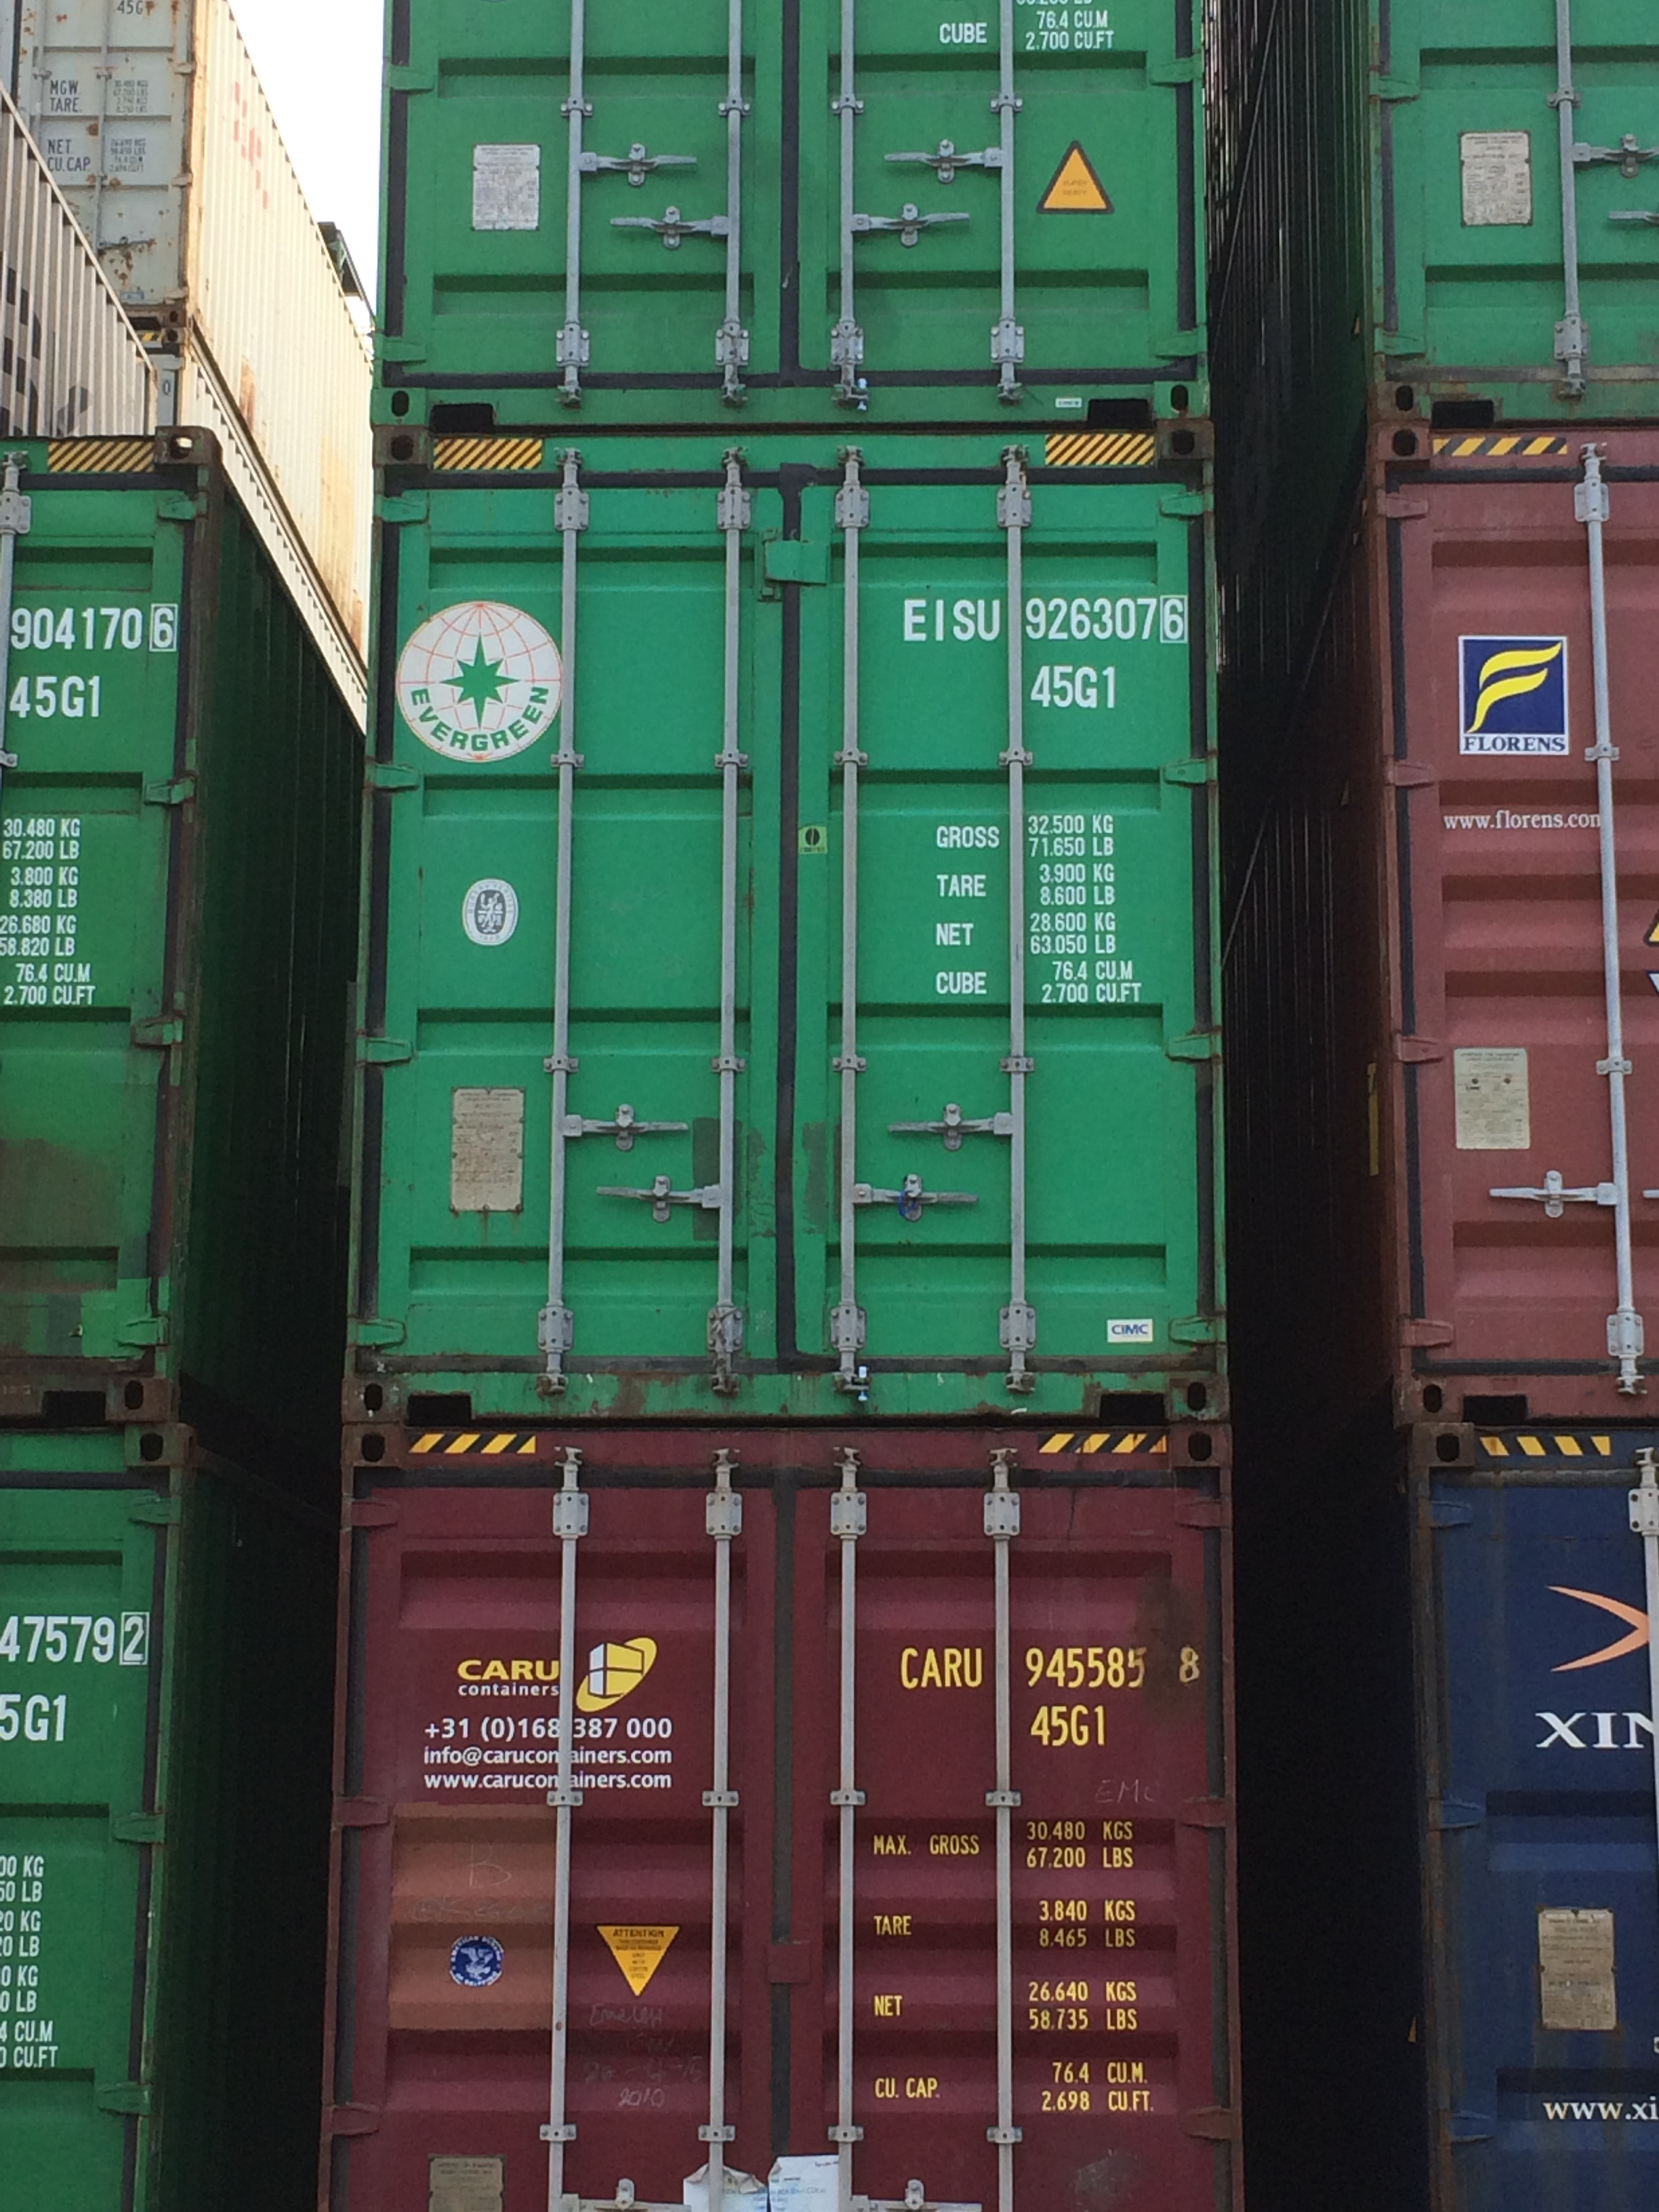container_door: (366, 421, 1243, 1430), (324, 1423, 1239, 2212), (382, 0, 1215, 420)
